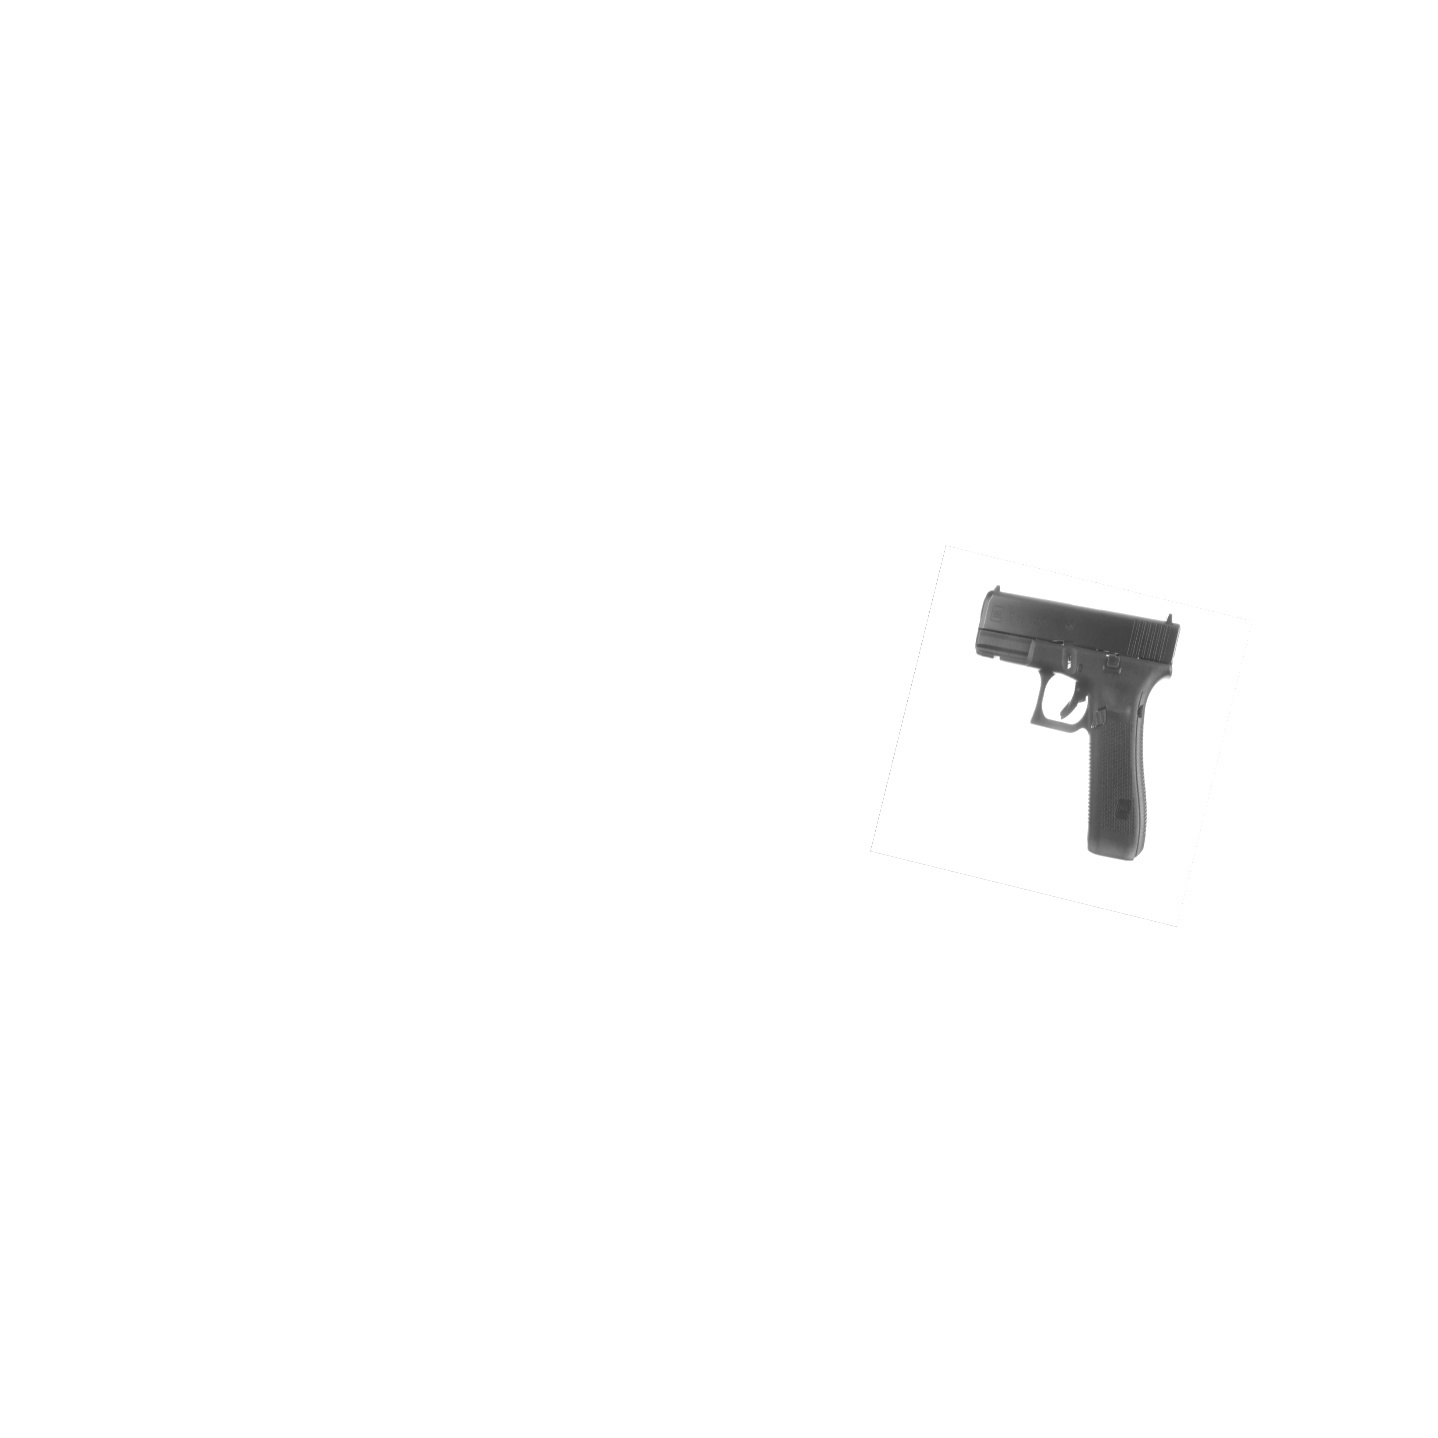gun: (969, 575, 1184, 870)
